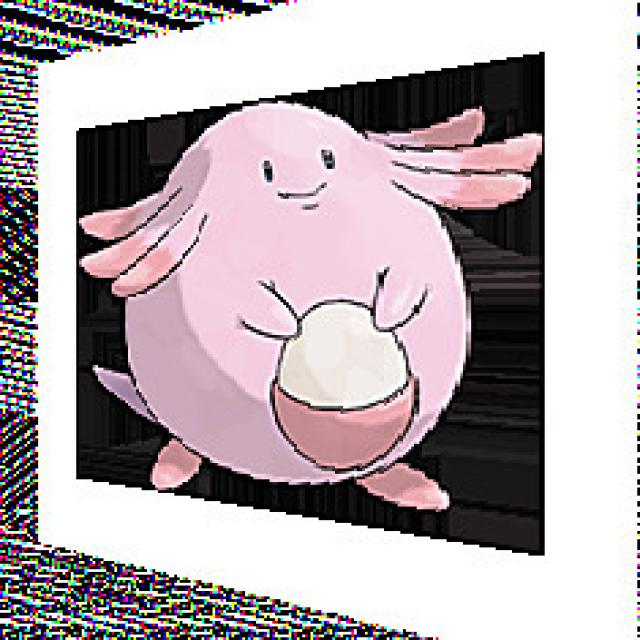Chansey: (118, 104, 480, 479)
